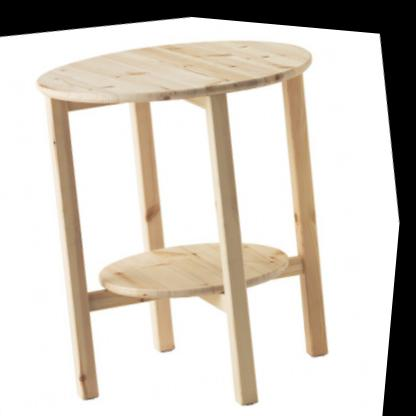Table: (0, 2, 386, 416)
